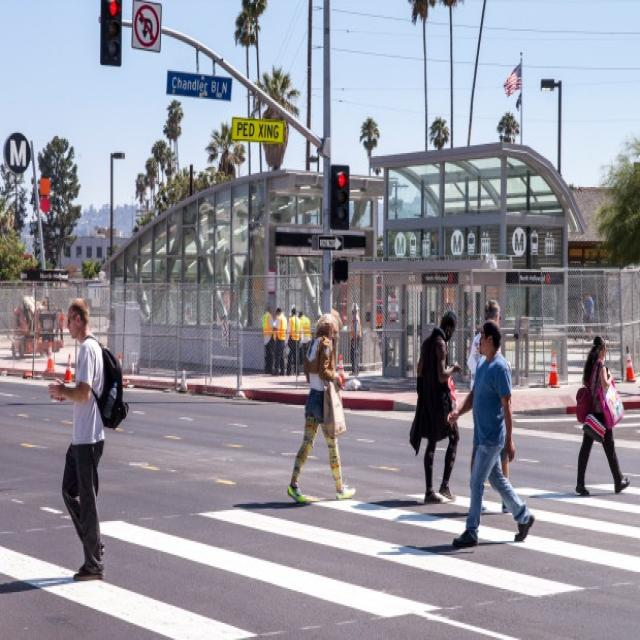body: (230, 484, 592, 559), (46, 294, 131, 584), (445, 315, 538, 552), (286, 312, 357, 506), (406, 306, 464, 507), (466, 297, 513, 513), (573, 332, 632, 500), (0, 561, 106, 596), (270, 305, 288, 377), (285, 306, 303, 377), (259, 303, 276, 376), (295, 309, 312, 377), (347, 300, 362, 376), (332, 300, 344, 369), (572, 295, 589, 342), (581, 291, 596, 343)
